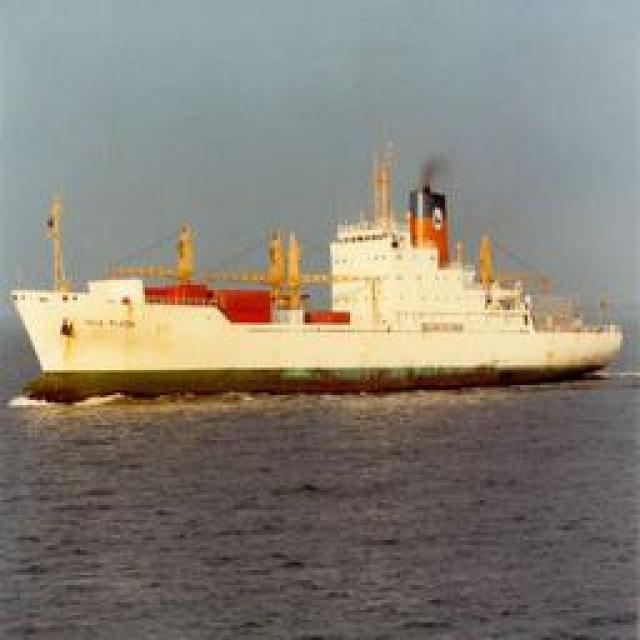CIV_Ship: (8, 212, 630, 406)
